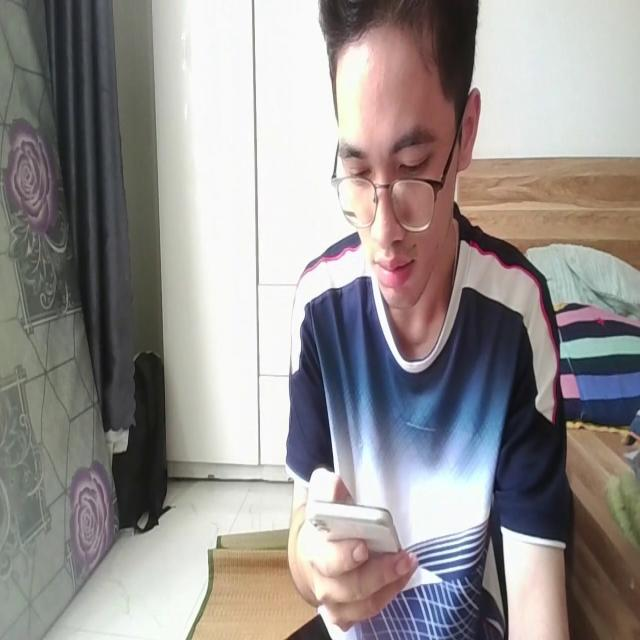phone: (306, 491, 409, 562)
student: (281, 2, 577, 640)
